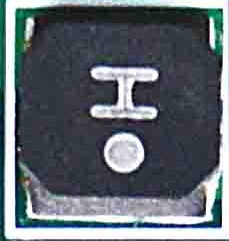Induktor: (11, 7, 216, 220)
